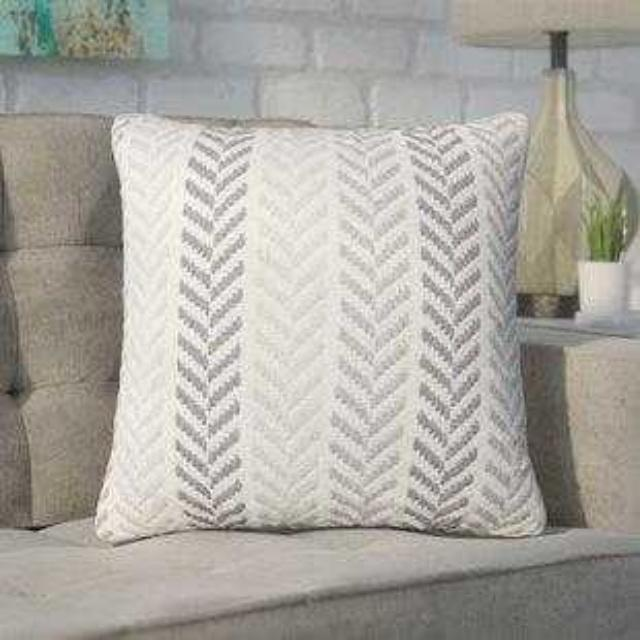pillow: (91, 110, 547, 542)
